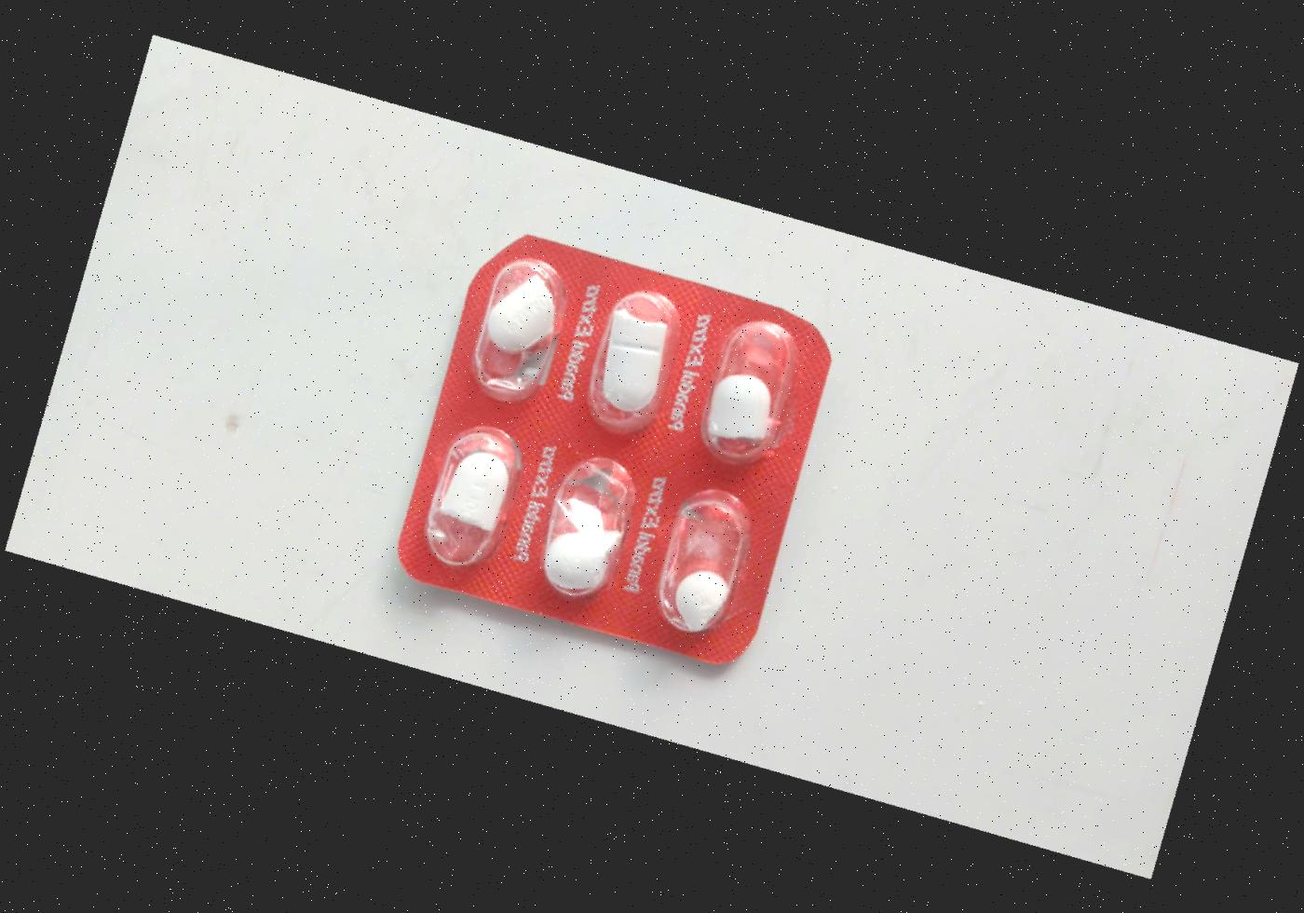Partial: (446, 233, 597, 419), (566, 269, 717, 455), (635, 469, 786, 655), (514, 429, 665, 615), (383, 400, 534, 586), (680, 299, 831, 485)
